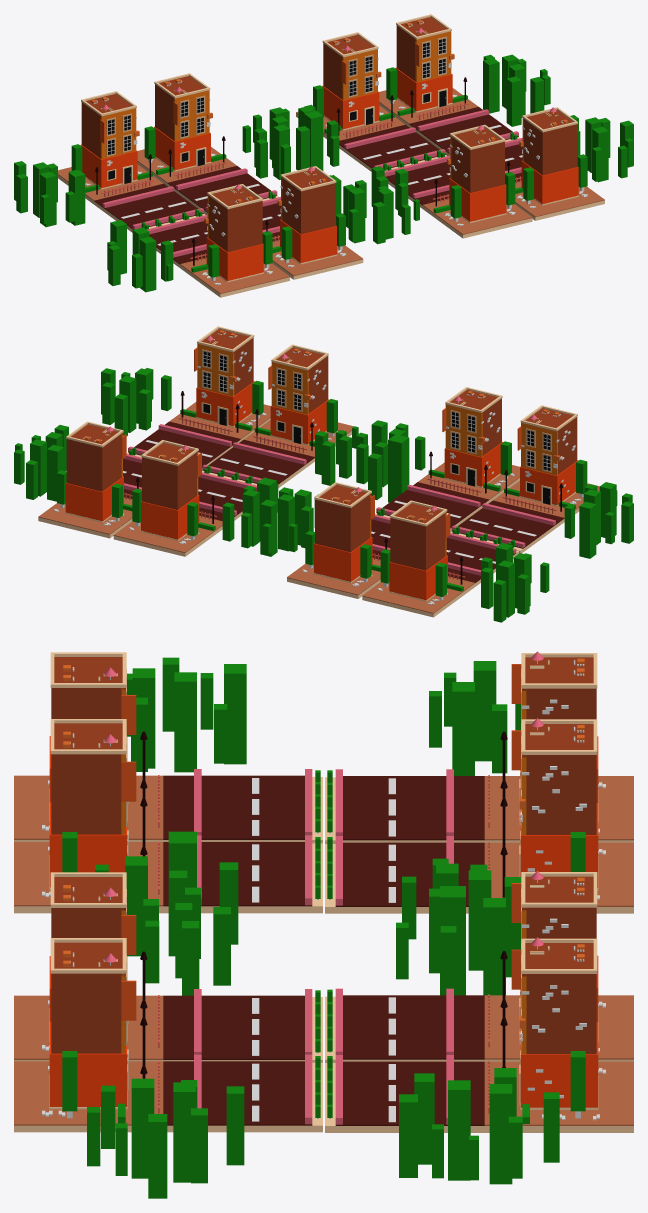
The model's file is building.gltf.
3 views of the same model, one above another, from view 1: azimuth 30°, elevation 25°; view 2: azimuth 150°, elevation 25°; view 3: azimuth 270°, elevation 25° (orthographic). The views are drawn at different scales.
Parts seen in each view (by area): view 1: Cube.036, Cube.084, Cube.048, Cube.060, Cube.075, Cube.015, Cube.027, Cube.003, Cube.052, Cube.040, Cube.088, Cube.064 (+72 smaller); view 2: Cube.024, Cube.072, Cube, Cube.011, Cube.087, Cube.051, Cube.063, Cube.016, Cube.004, Cube.039, Cube.076, Cube.028 (+78 smaller); view 3: Cube.015, Cube.075, Cube.051, Cube.087, Cube.039, Cube.003, Cube.027, Cube.063, Cube.060, Cube.036, Cube.024, Cube (+82 smaller).
Part boxes in pixels (x1,y1,x2,y2): Cube.036: [524, 119, 577, 175]; Cube.084: [209, 196, 262, 252]; Cube.048: [451, 137, 504, 192]; Cube.060: [282, 179, 335, 234]; Cube.075: [94, 183, 203, 229]; Cube.015: [339, 124, 445, 168]; Cube.027: [409, 107, 518, 153]; Cube.003: [167, 166, 277, 212]; Cube.052: [449, 178, 506, 221]; Cube.040: [521, 160, 578, 204]; Cube.088: [206, 237, 263, 280]; Cube.064: [280, 219, 336, 262]; Cube.024: [66, 434, 121, 491]; Cube.072: [390, 513, 445, 570]; Cube: [315, 495, 370, 552]; Cube.011: [142, 452, 196, 509]; Cube.087: [452, 500, 564, 548]; Cube.051: [202, 439, 314, 484]; Cube.063: [376, 482, 488, 528]; Cube.016: [141, 495, 199, 539]; Cube.004: [314, 537, 372, 581]; Cube.039: [128, 421, 240, 467]; Cube.076: [389, 555, 447, 600]; Cube.028: [65, 476, 123, 521]; Cube.015: [343, 995, 484, 1059]; Cube.075: [343, 776, 484, 840]; Cube.051: [163, 995, 304, 1059]; Cube.087: [163, 775, 304, 839]; Cube.039: [163, 1061, 312, 1125]; Cube.003: [335, 842, 484, 906]; Cube.027: [335, 1061, 484, 1125]; Cube.063: [163, 842, 312, 906]; Cube.060: [51, 754, 121, 834]; Cube.036: [51, 973, 121, 1053]; Cube.024: [526, 974, 596, 1054]; Cube: [526, 755, 596, 834].
Size of what is drawn, in the model's own units: 298 by 53.64 by 166.
